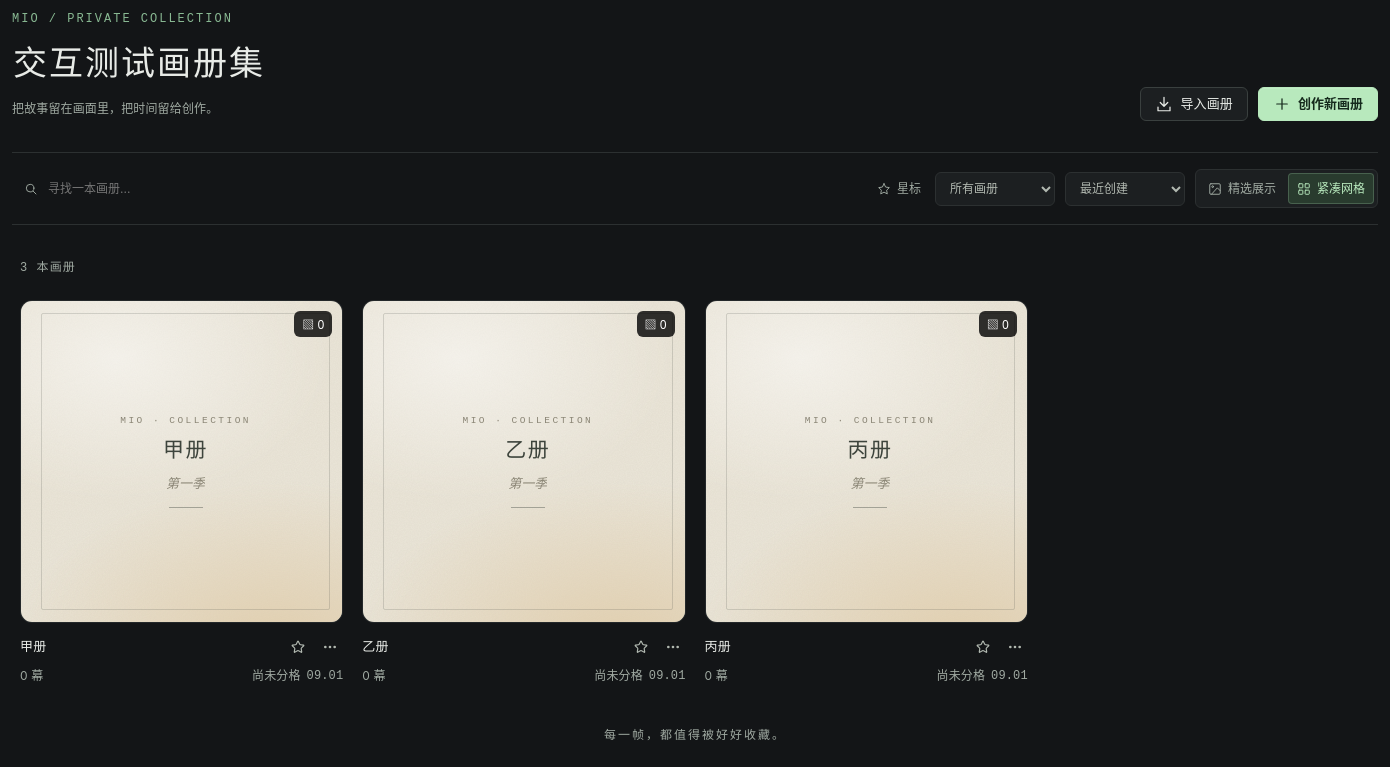
Test: legacy shelf selection › Escape first closes the menu, then clears an intentional multi-selection
Expected: the element "甲册" is shown, [20,300,343,687]
Click the button with aria-label "甲册" at (182, 462), box [20,300,343,623]
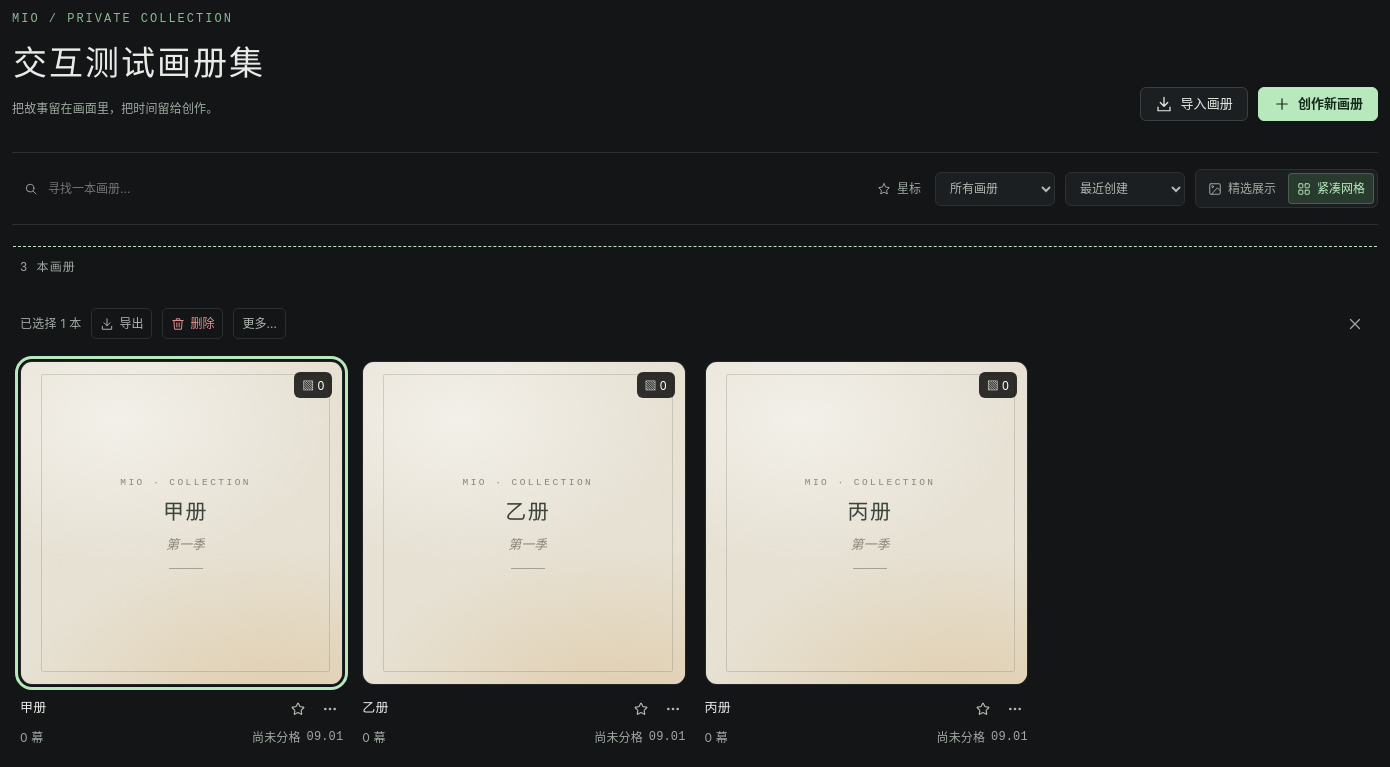
Click the button with aria-label "乙册" at (524, 523), box [362,361,686,685]
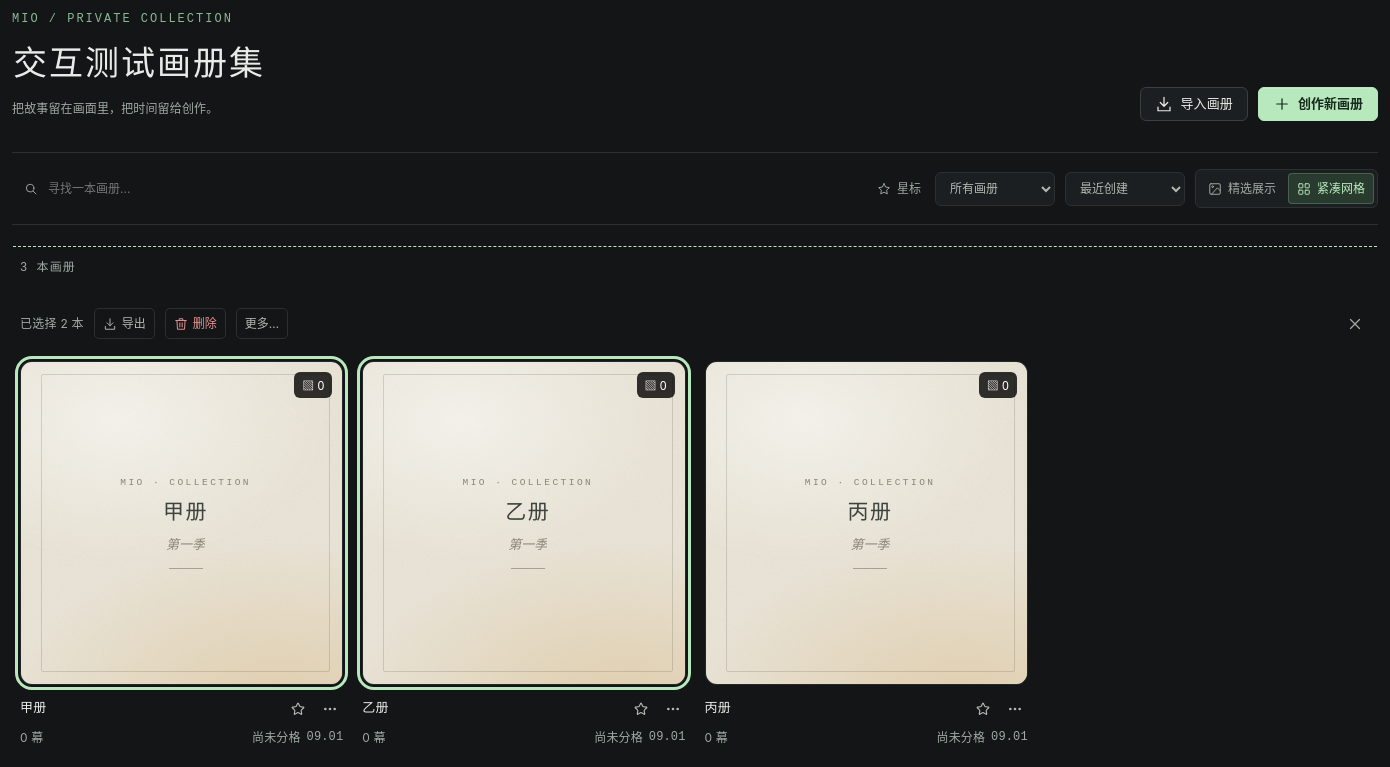
Right-click the element "甲册" at (182, 555), box [20,361,343,748]
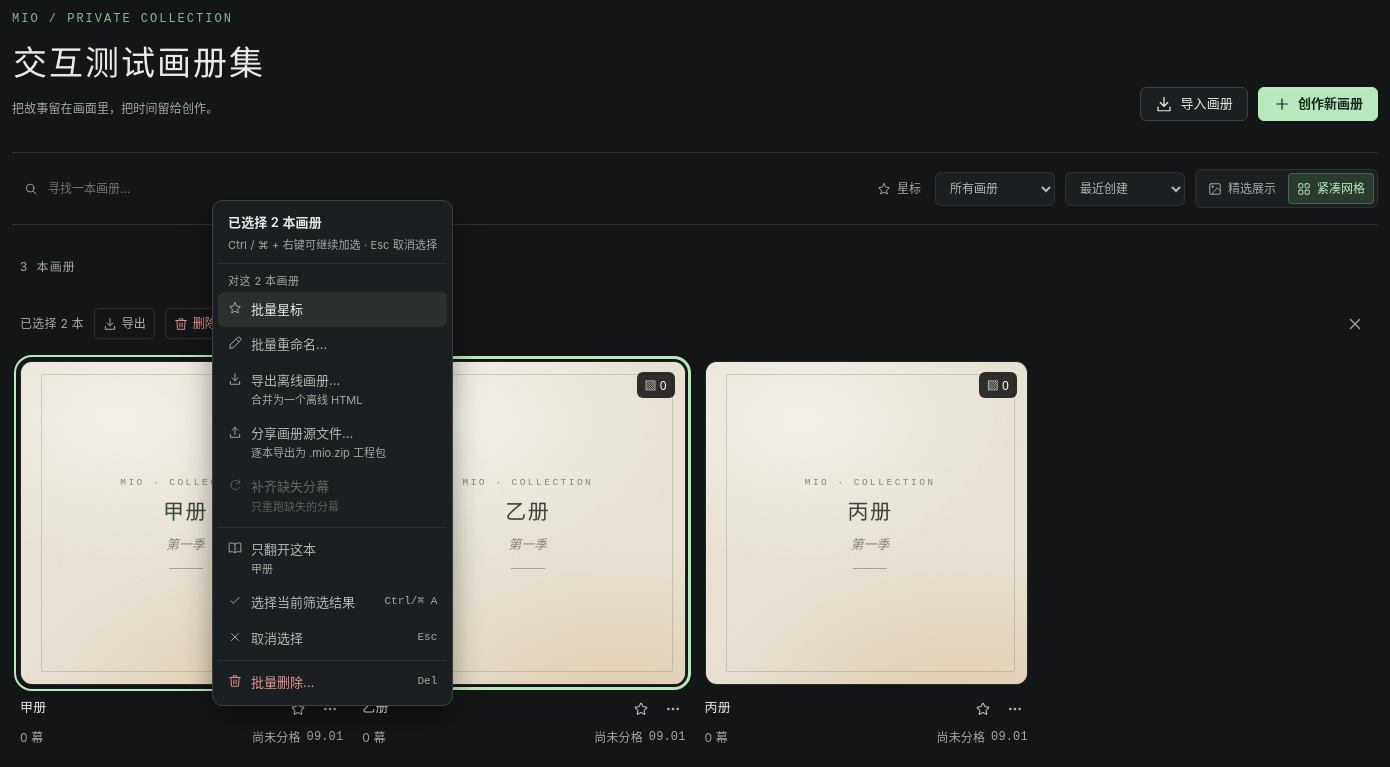
Press Escape in the menu item "批量星标", box [218,292,447,327]
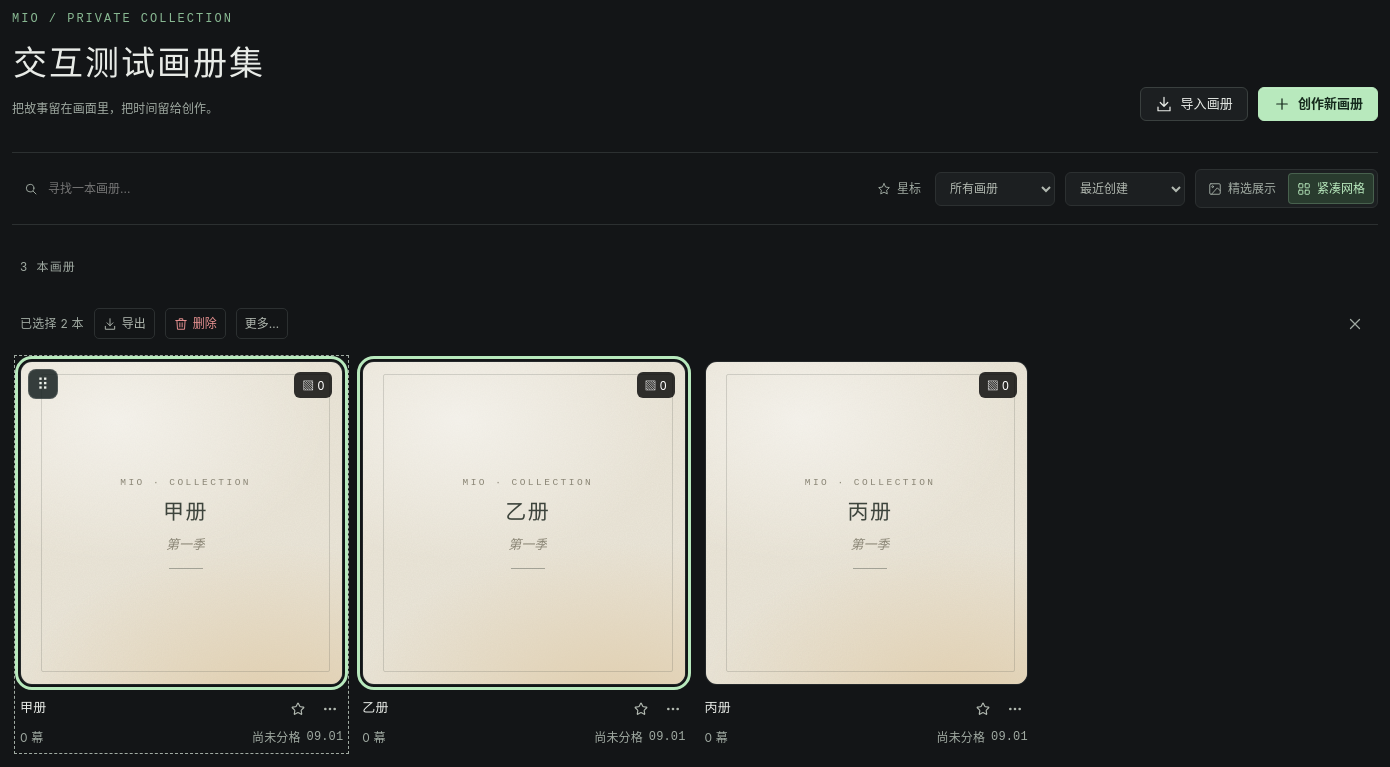
Expected: the menu is gone
Press Escape in the element "甲册", box [20,361,343,748]
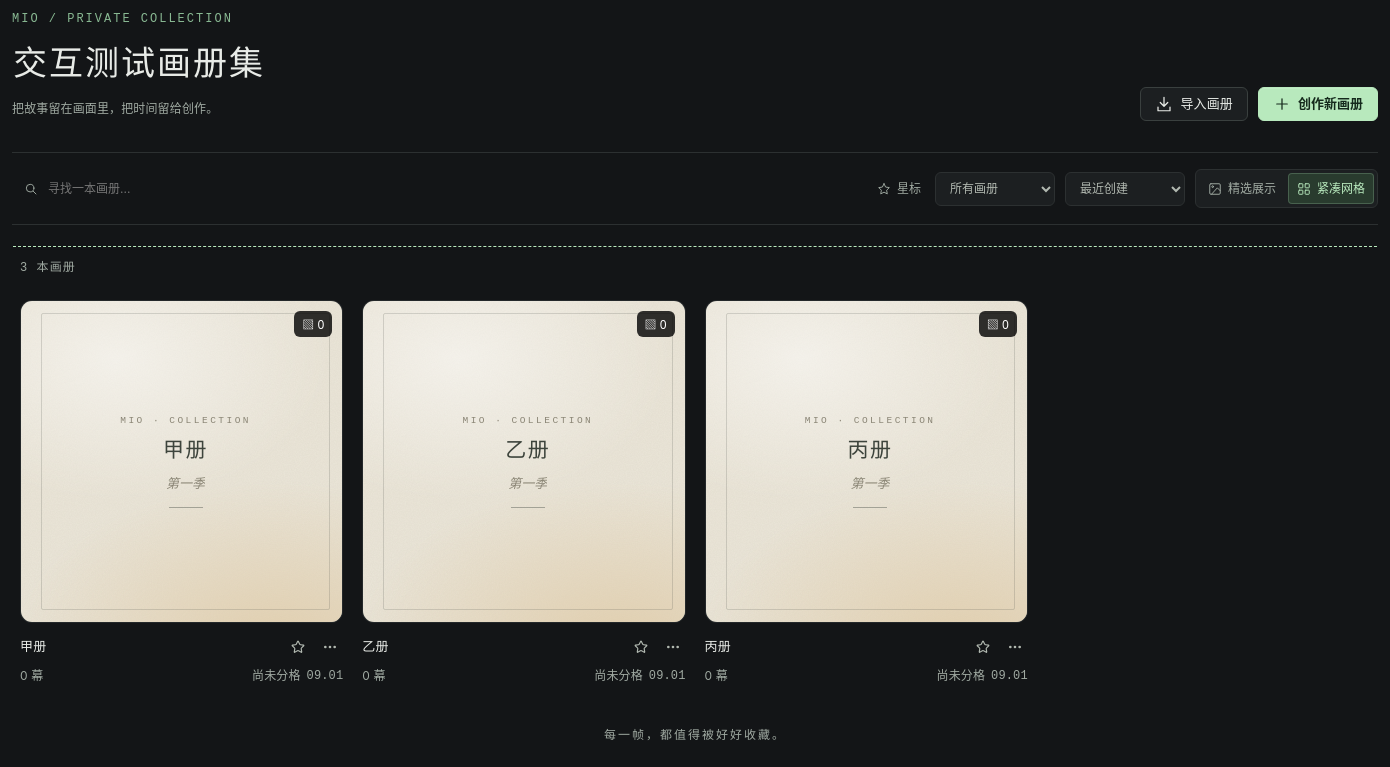
Expected: the text "已选择 2 本" is gone
